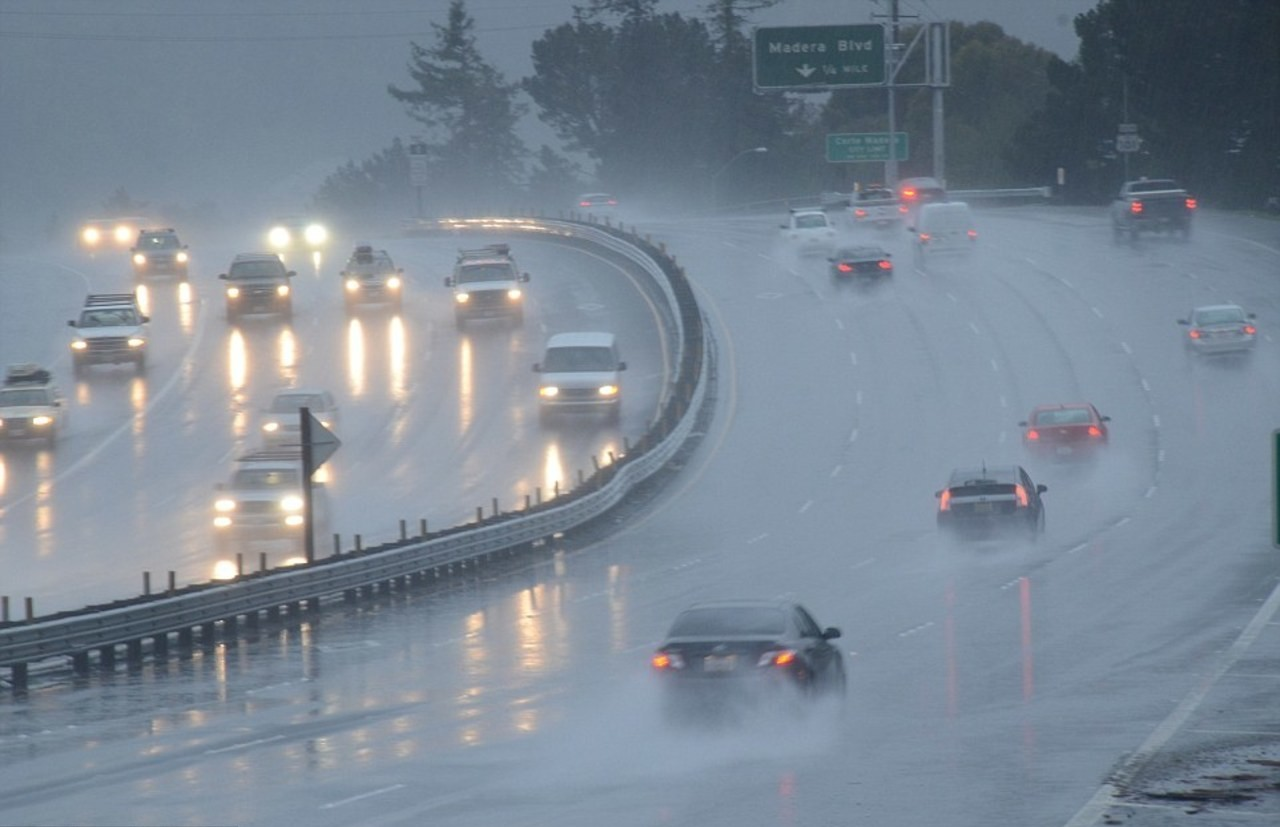car: (647, 598, 845, 690), (208, 456, 325, 547), (530, 333, 627, 430), (935, 461, 1046, 543), (67, 294, 151, 376), (1015, 396, 1112, 467), (446, 255, 529, 332), (3, 364, 65, 453), (217, 254, 296, 320), (1110, 180, 1194, 242), (256, 390, 341, 444), (340, 245, 405, 315), (1181, 303, 1257, 355), (912, 201, 978, 253), (776, 203, 839, 254), (823, 244, 894, 287), (130, 232, 189, 277), (839, 183, 904, 222), (263, 212, 325, 247), (74, 213, 134, 245), (573, 185, 622, 218), (902, 175, 948, 204)
